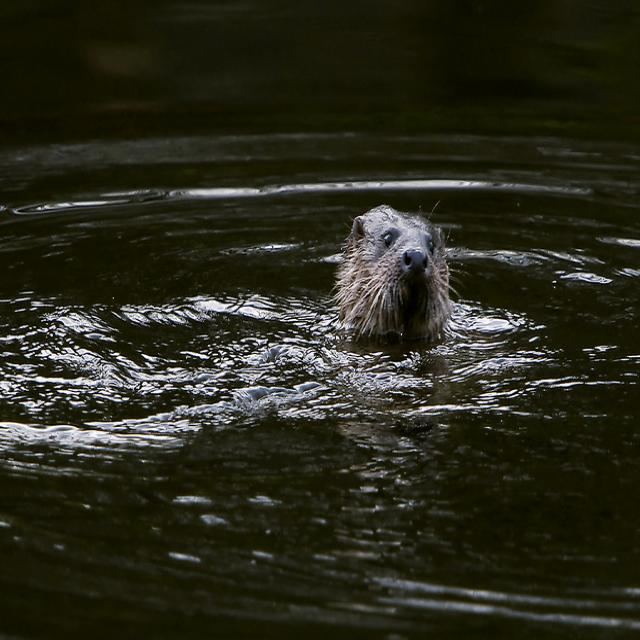otter: (335, 202, 450, 347)
